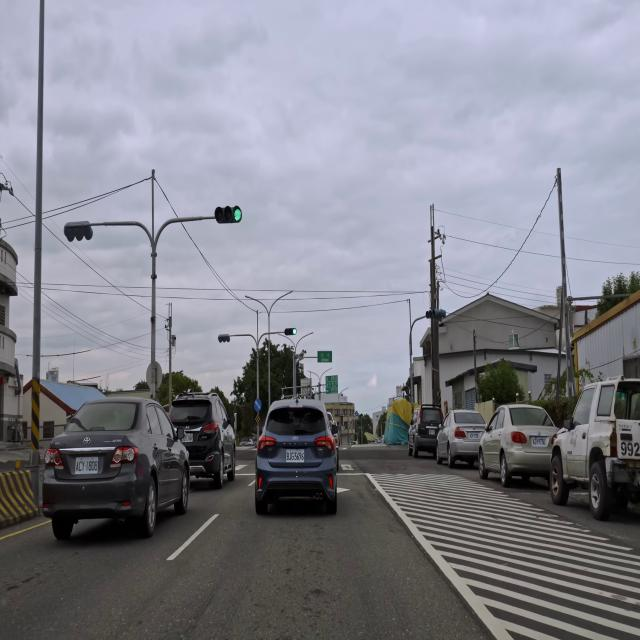green light: (214, 206, 242, 224), (284, 328, 296, 335)
